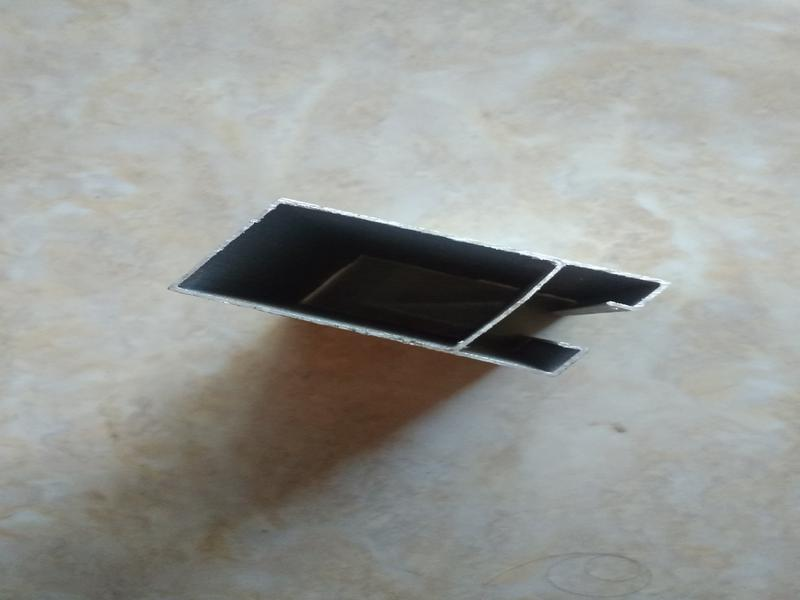Aluminium_1: (161, 151, 682, 429)
